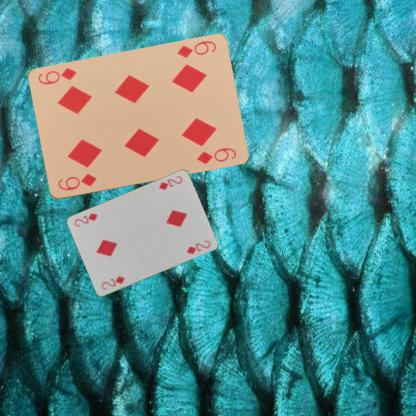2d: (98, 273, 126, 291), (156, 174, 184, 192)
6d: (174, 38, 218, 60), (55, 171, 98, 192)
